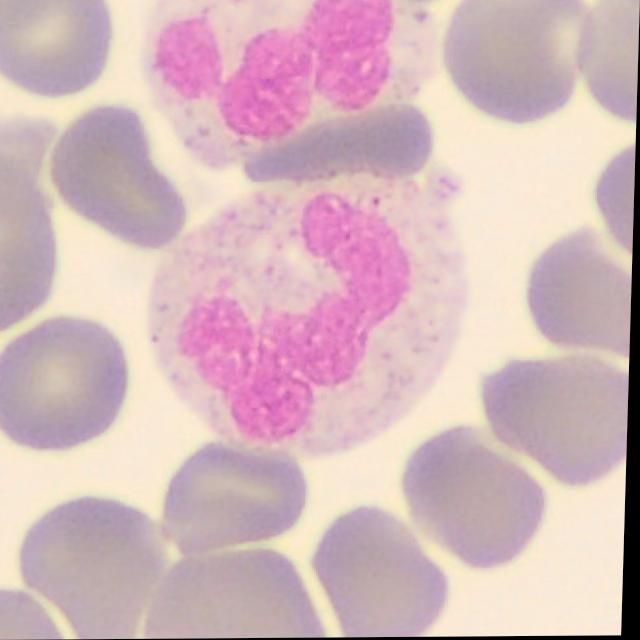Neutrofilo segmentado: (150, 173, 474, 466)
